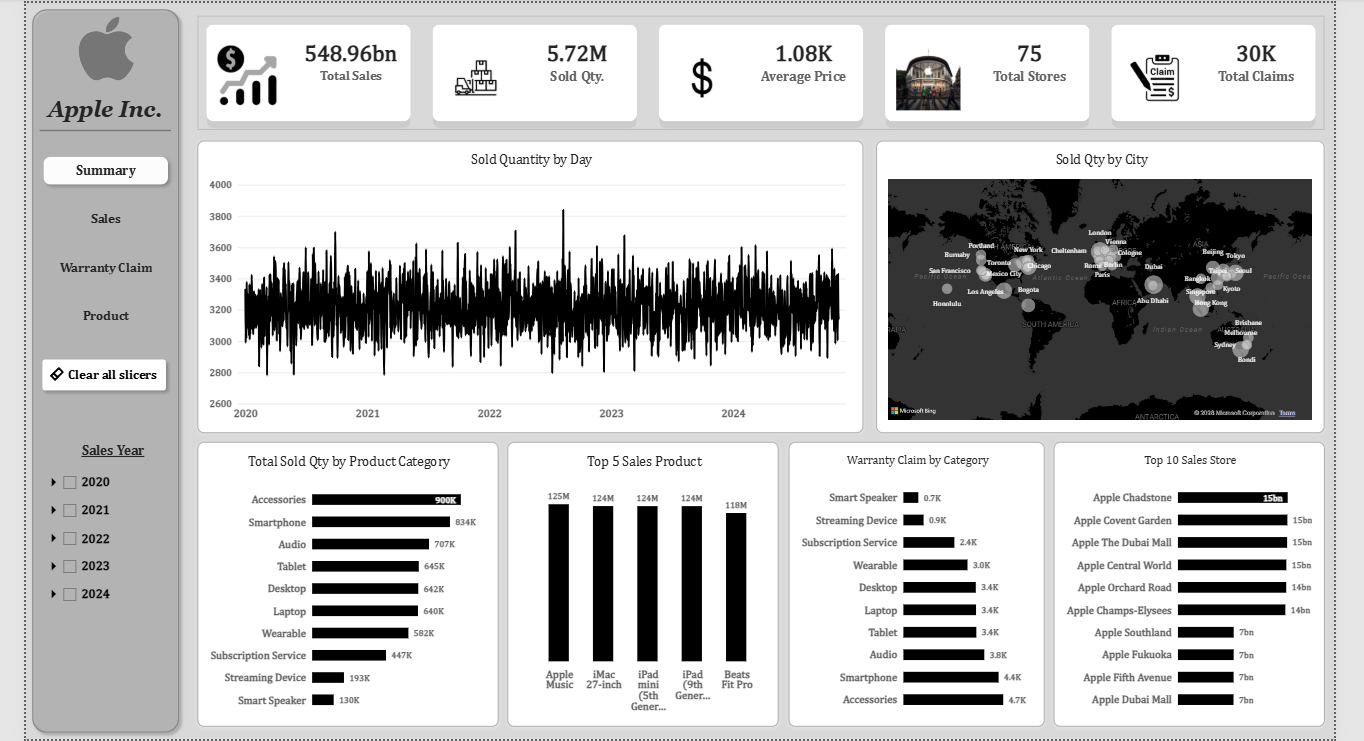

The page's visual inventory and layout, read from the dashboard file:
{"tool":"powerbi","page":{"name":"Summary","canvas":[1920,1080],"ordinal":0},"visuals":[{"type":"shape","box":[0,0,234,1080],"z":0,"group":"g2"},{"type":"cardVisual","fields":{"Data":["Calcule_KPI.Total_Sales","Calcule_KPI.Total_Qty","Calcule_KPI.Average_Price","Calcule_KPI.Total_Store","Calcule_KPI.Number_of_Claim"]},"box":[251.3,18.3,1654.5,168.8],"z":0},{"type":"image","box":[55,18.3,124,106],"z":1000,"group":"g1"},{"type":"lineChart","title":"Sold Quantity by Day","fields":{"Category":["sales.sale_date"],"Y":["Calcule_KPI.Total_Qty"]},"box":[251.3,201.8,977.7,429.2],"z":1000},{"type":"textbox","box":[20,138,192,50],"z":2000,"group":"g2"},{"type":"map","title":"Sold Qty by City","fields":{"Category":["stores.City"],"Size":["Calcule_KPI.Total_Qty"]},"box":[1247.3,201.8,658.5,429.2],"z":2000},{"type":"clusteredBarChart","title":"Total Sold Qty by Product Category","fields":{"Category":["category.category_name"],"Y":["Calcule_KPI.Total_Qty"]},"box":[251.3,643.8,442.1,418.2],"z":3000},{"type":"columnChart","title":"Top 5 Sales Product","fields":{"Category":["products.Product_Name"],"Y":["Calcule_KPI.Total_Sales"]},"box":[706.2,643.8,398,418.2],"z":4000},{"type":"barChart","title":"Warranty Claim by Category","fields":{"Category":["category.category_name"],"Y":["Calcule_KPI.Number_of_Claim"]},"box":[1118.9,643.8,376,418.2],"z":5000},{"type":"barChart","title":"Top 10 Sales Store","fields":{"Category":["stores.Store_Name"],"Y":["Calcule_KPI.Total_Sales"]},"box":[1507.8,643.8,398,418.2],"z":6000},{"type":"shape","box":[20.2,179.8,192.6,14.7],"z":7000},{"type":"group","id":"g1","title":"Group 1","box":[0,0,234,1080],"z":8000},{"type":"slicer","title":"Sales Year","fields":{"Values":["Calender_Table.Sales_Date.Variation.Date Hierarchy.Year","Calender_Table.Sales_Date.Variation.Date Hierarchy.Quarter","Calender_Table.Sales_Date.Variation.Date Hierarchy.Month","Calender_Table.Sales_Date.Variation.Date Hierarchy.Day"]},"box":[20.2,643.8,214.6,245.8],"z":9000},{"type":"group","id":"g2","title":"Group 2","box":[0,0,234,1080],"z":9001,"group":"g1"},{"type":"pageNavigator","box":[16.5,216.4,201.8,273.3],"z":9001},{"type":"actionButton","box":[14.7,513.6,199.9,64.2],"z":9002}]}

Visuals, with their boxes on the page's 1920x1080 design canvas (x1, y1, x2, y2). These are canvas units, not pixel positions in the 1364x741 screenshot, which may show the page scaled, cropped or inside an application window:
shape: x1=0 y1=0 x2=234 y2=1080
cardVisual - Calcule_KPI.Total_Sales x Calcule_KPI.Total_Qty: x1=251 y1=18 x2=1906 y2=187
image: x1=55 y1=18 x2=179 y2=124
"Sold Quantity by Day" lineChart: x1=251 y1=202 x2=1229 y2=631
textbox: x1=20 y1=138 x2=212 y2=188
"Sold Qty by City" map: x1=1247 y1=202 x2=1906 y2=631
"Total Sold Qty by Product Category" clusteredBarChart: x1=251 y1=644 x2=693 y2=1062
"Top 5 Sales Product" columnChart: x1=706 y1=644 x2=1104 y2=1062
"Warranty Claim by Category" barChart: x1=1119 y1=644 x2=1495 y2=1062
"Top 10 Sales Store" barChart: x1=1508 y1=644 x2=1906 y2=1062
shape: x1=20 y1=180 x2=213 y2=194
"Group 1" group: x1=0 y1=0 x2=234 y2=1080
"Sales Year" slicer: x1=20 y1=644 x2=235 y2=890
"Group 2" group: x1=0 y1=0 x2=234 y2=1080
pageNavigator: x1=16 y1=216 x2=218 y2=490
actionButton: x1=15 y1=514 x2=215 y2=578
